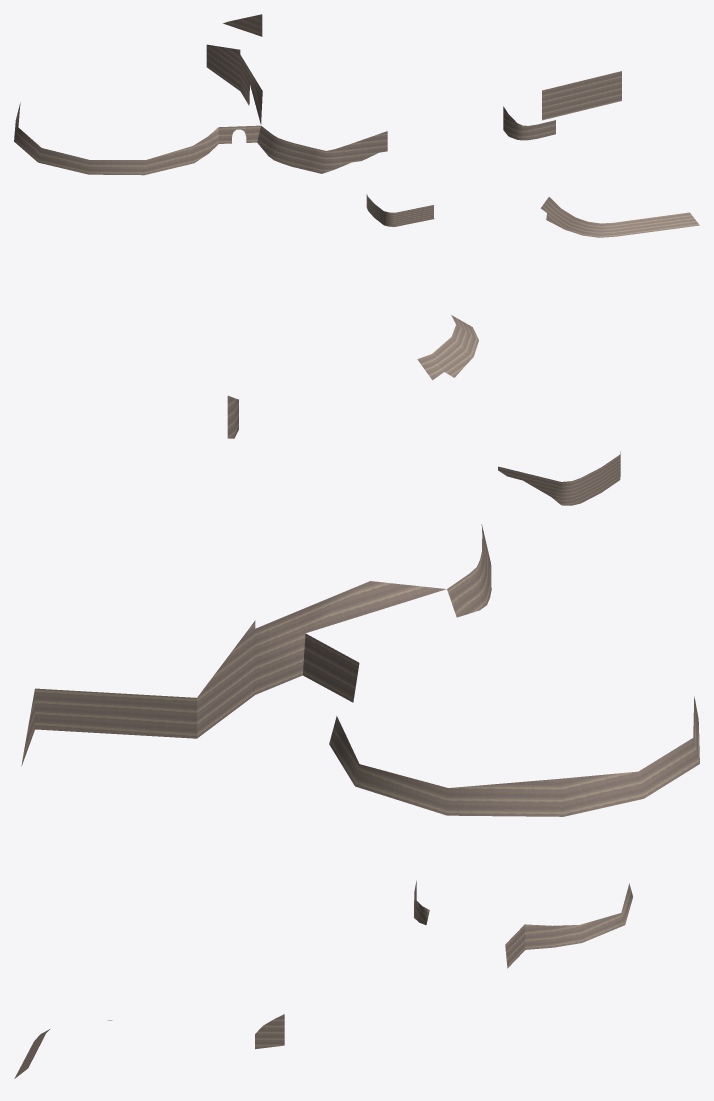
Rendered from kd_stage_136599_19_6.glb.
3 views of the same model, one above another, from view 1: azimuth 30°, elevation 25°; view 2: azimuth 150°, elevation 25°; view 3: azimuth 270°, elevation 25° (orthographic). The views are drawn at different scales.
Parts seen in each view (by area): view 1: kd_stage_136599_19_6; view 2: kd_stage_136599_19_6; view 3: kd_stage_136599_19_6.
Boxes of the visible parts, x1,y1,x2,y2 form: kd_stage_136599_19_6: (14, 14, 699, 237); kd_stage_136599_19_6: (21, 315, 699, 816); kd_stage_136599_19_6: (14, 880, 632, 1078).
Bounding box in the file's own units: 186 × 17.66 × 218.
Materials: 1 (1 with a texture image).
